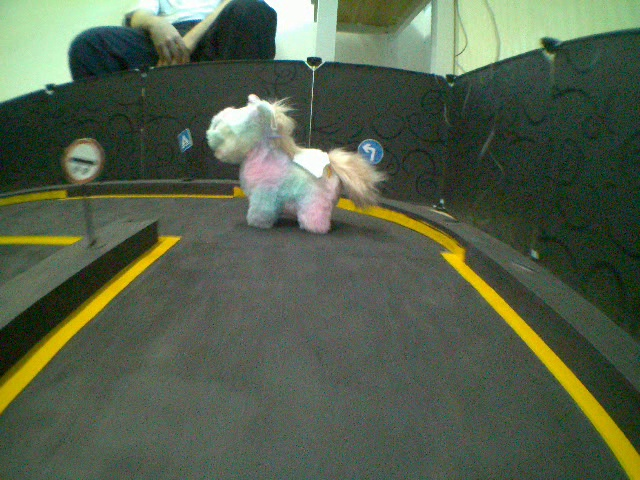unicorn: (190, 83, 394, 247)
